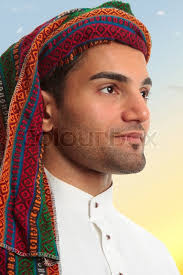middle_eastern_male: (60, 43, 161, 173)
